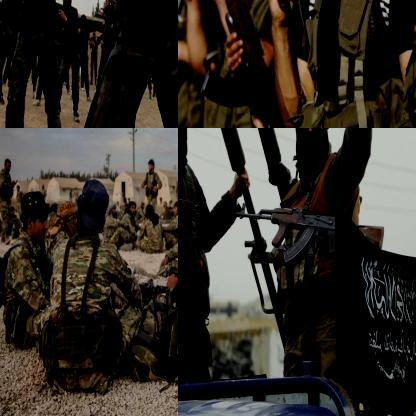rifle: (192, 0, 285, 127), (232, 200, 388, 266), (81, 0, 125, 12)
